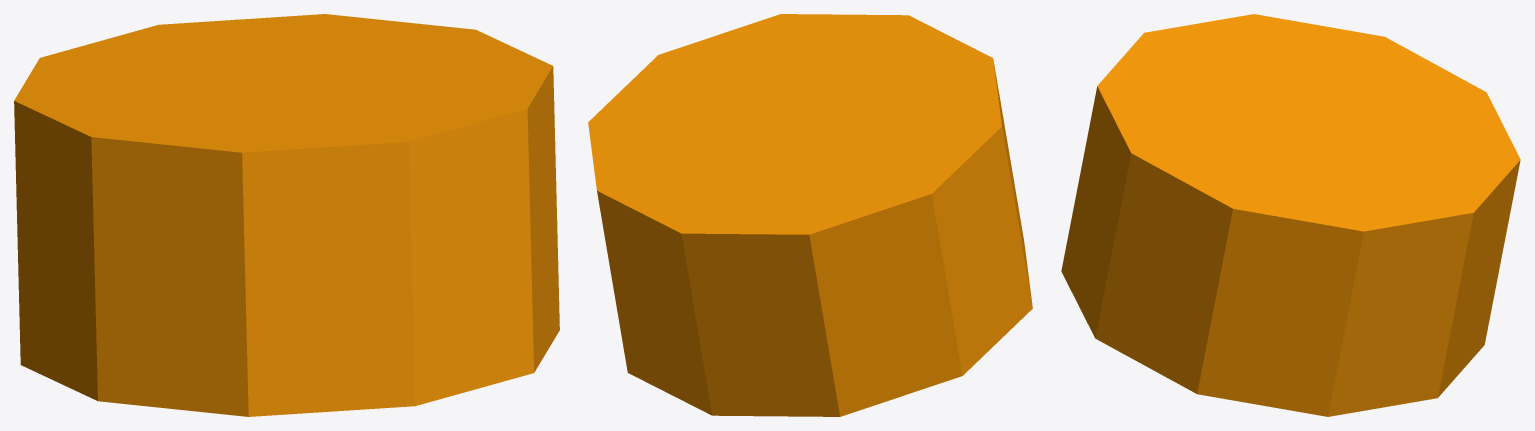
Rendered from group122212227_lev3.glb.
3 views of the same model, side by side, from view 1: azimuth 30°, elevation 25°; view 2: azimuth 150°, elevation 25°; view 3: azimuth 270°, elevation 25° (orthographic). The views are drawn at different scales.
Visible parts, largest first — view 1: group122212227_lev3; view 2: group122212227_lev3; view 3: group122212227_lev3.
Boxes of the visible parts, bbox=[...] form: group122212227_lev3: bbox=[14, 14, 559, 416]; group122212227_lev3: bbox=[588, 14, 1032, 416]; group122212227_lev3: bbox=[1061, 14, 1520, 416].
Size of the model in its own units: 0.5466 by 0.3655 by 0.587.
